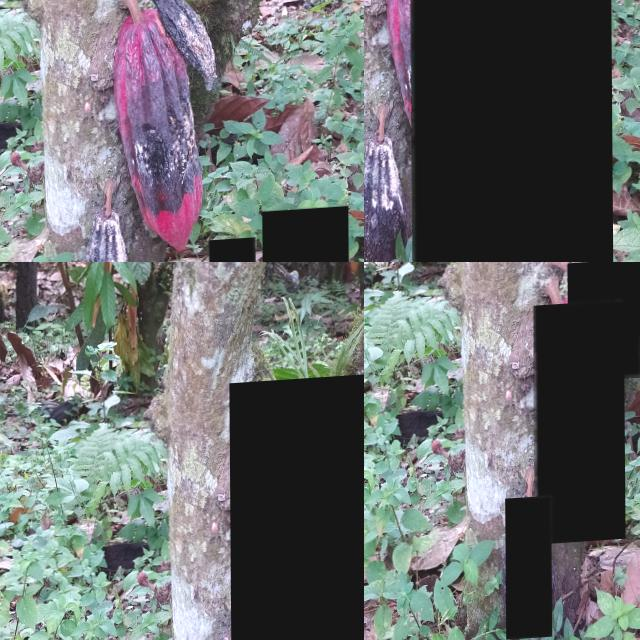Monilia: (229, 375, 364, 640), (533, 305, 624, 549), (567, 264, 640, 386), (504, 500, 551, 640)
Sana: (409, 0, 612, 262), (261, 213, 348, 262)
